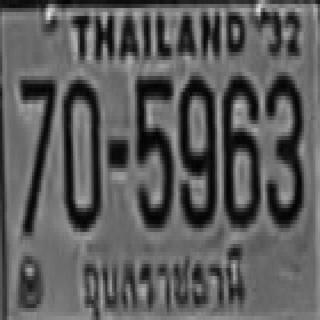N00: (62, 76, 98, 228)
N03: (264, 72, 303, 224)
N05: (135, 72, 172, 224)
N06: (222, 72, 258, 224)
N07: (18, 76, 55, 232)
N09: (178, 72, 215, 224)
P72: (75, 240, 258, 320)
